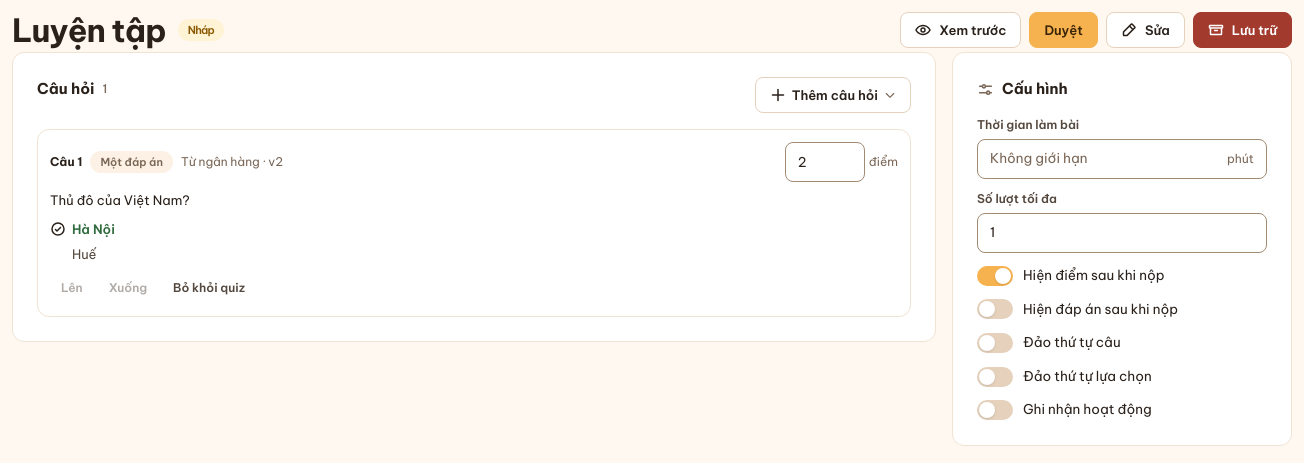
QuizDetailPage › lưu điểm câu kèm version của quiz
This screenshot has width=1304, height=463.
Step 1. Replace the text in the field with test id "quiz-item-points-0" with "2,5" → (825, 162), box [798,153,852,171]
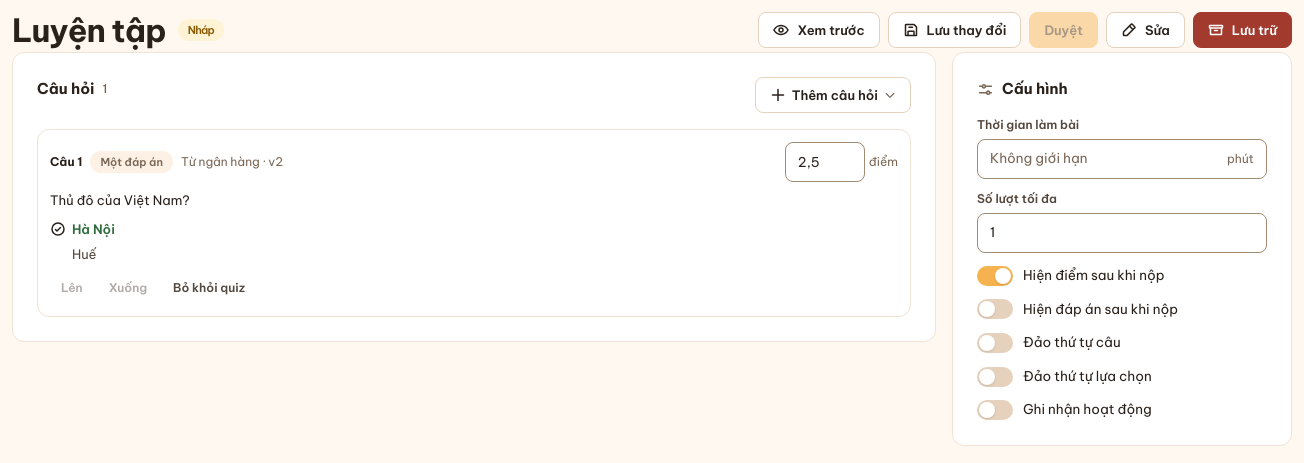
Expected: the button with test id "quiz-detail-review" is disabled, [1029,12,1098,48]
Step 2. Click the button with test id "quiz-detail-save" → (954, 30), box [888,12,1021,48]
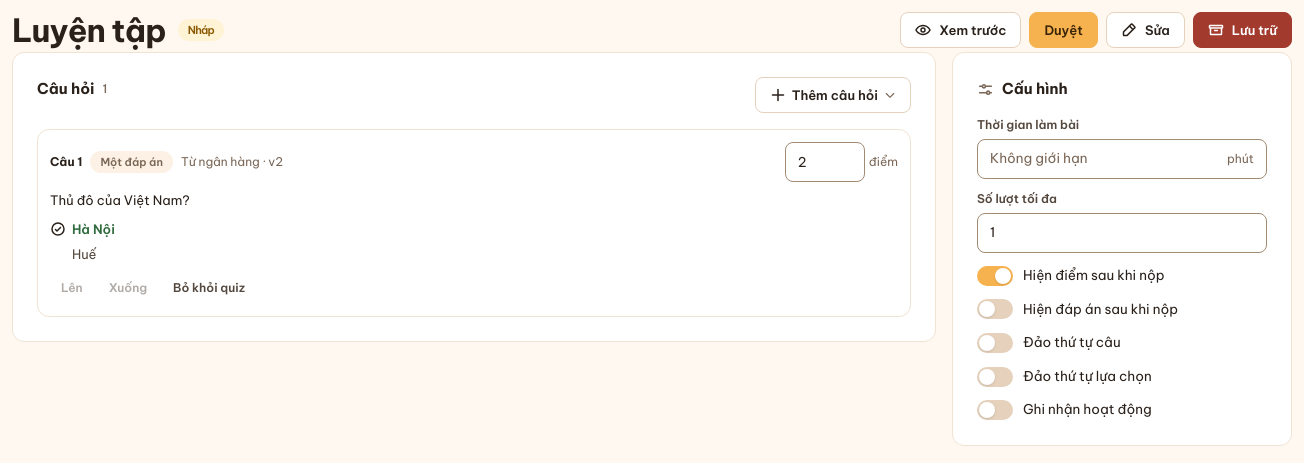
Expected: the button with test id "quiz-detail-save" is gone
